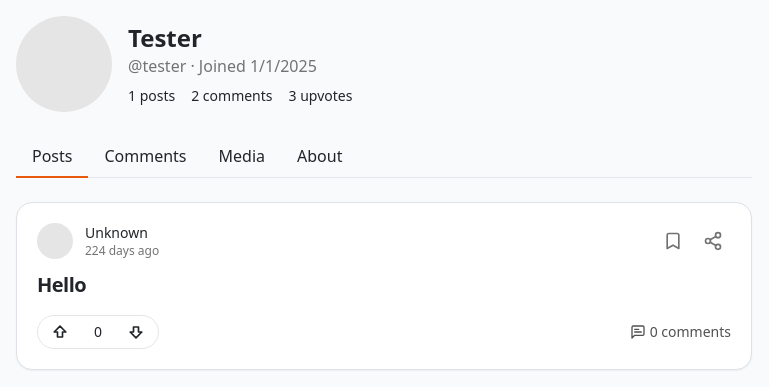
Scenario: ProfilePage › renders tabs and switches
Check: the navigation bar named "profile sections" is shown, box [16, 136, 752, 178]
Check: the tab "Media" is shown, box [202, 136, 281, 178]
Step 1. Click the tab "Comments" → [146, 157], box [88, 136, 203, 178]
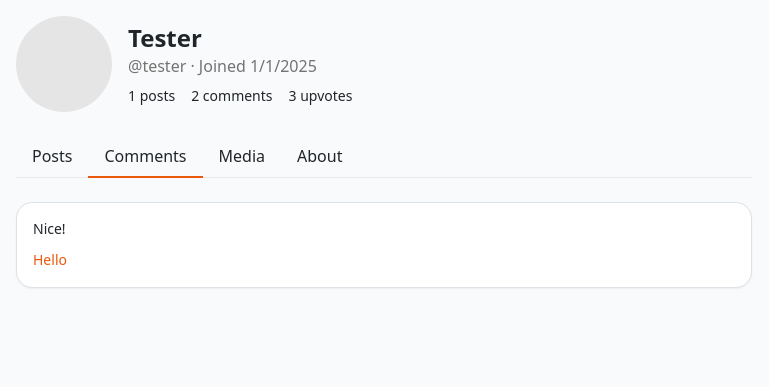
Check: the panel named "Comments" shows "Nice!", box [33, 219, 66, 238]
